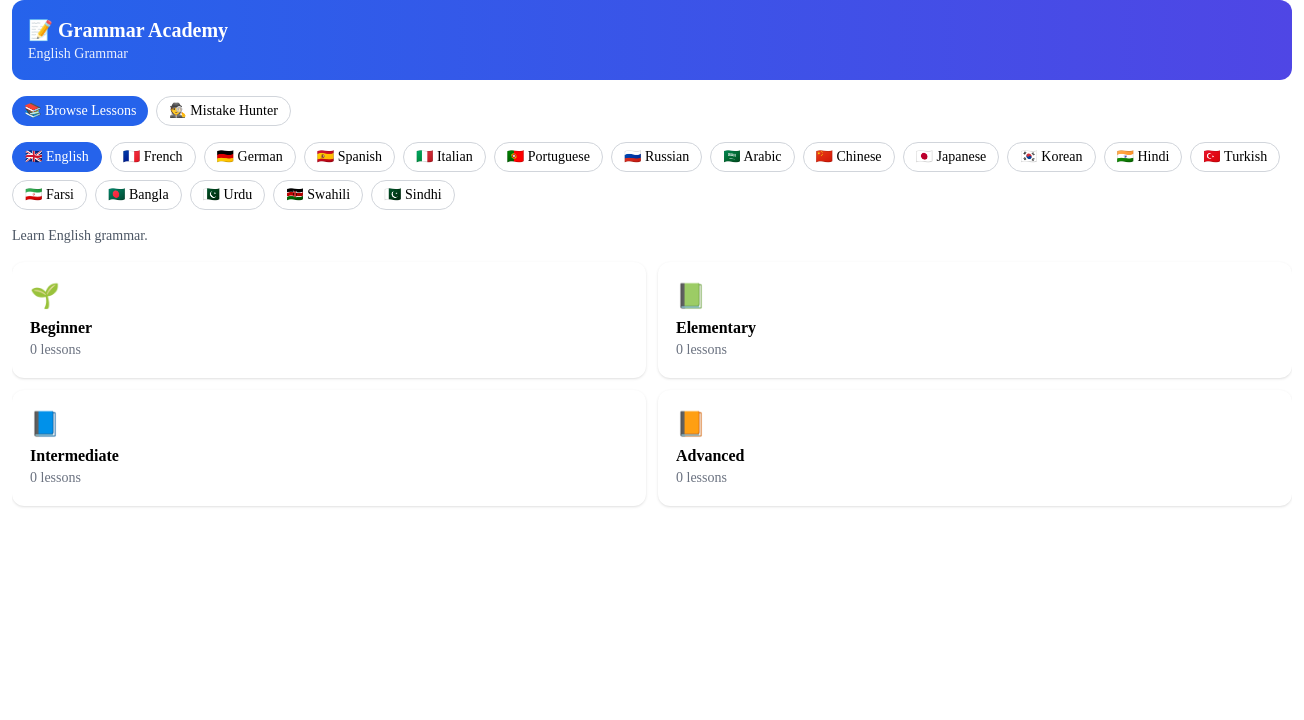
Test: GrammarAcademy Mistake Hunter › generates a mistake-hunting exercise and reveals the answer key
Click the button "🕵️ Mistake Hunter" at coordinates (224, 111), box x1=156 y1=96 x2=291 y2=126
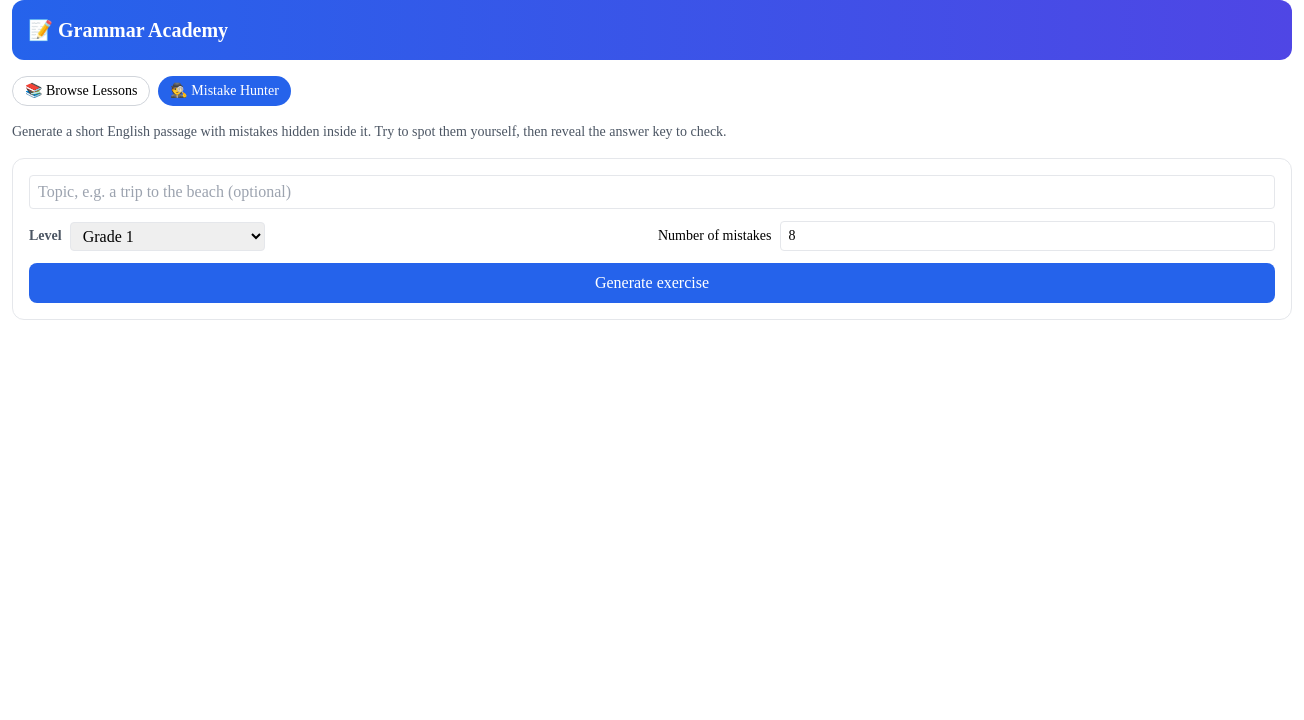
Click the button "Generate exercise" at coordinates (652, 283), box x1=29 y1=263 x2=1275 y2=303
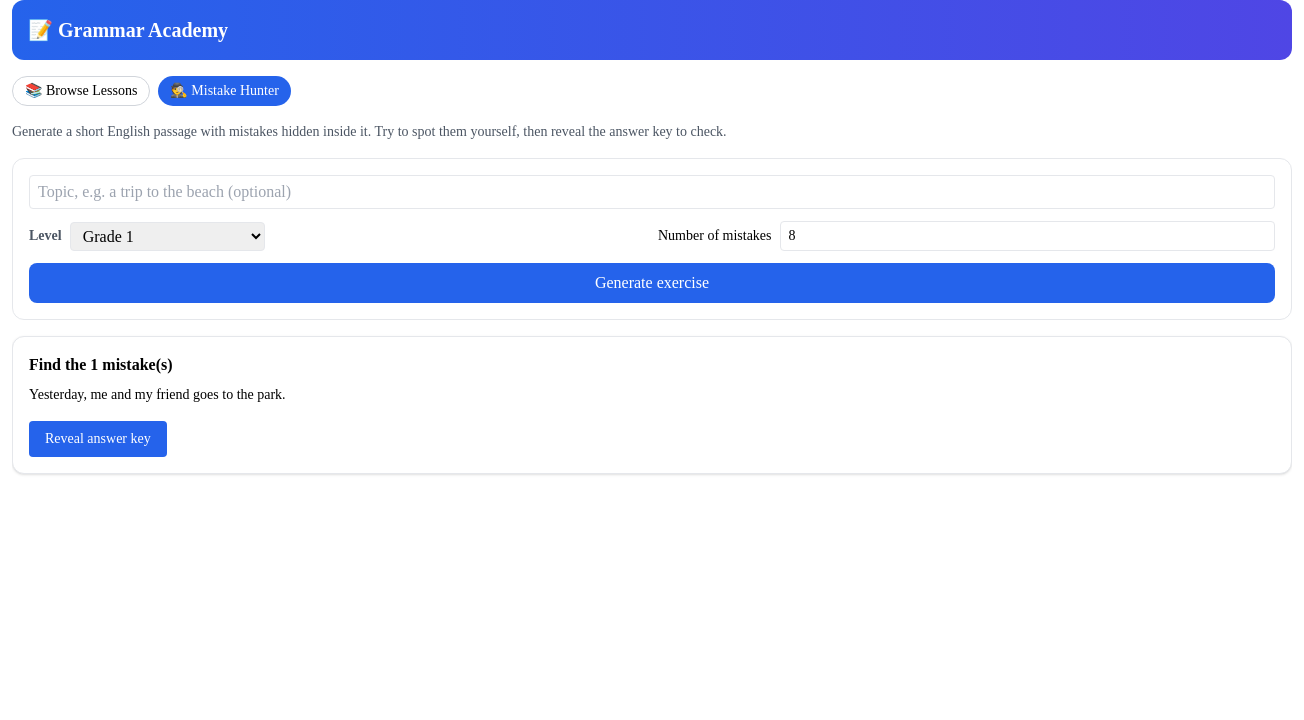
Expected: the text "my friend and I went" is not shown
Expected: the text "Yesterday, me and my friend goes to the park." is shown, x1=29 y1=387 x2=286 y2=402
Click the button "Reveal answer key" at coordinates (98, 439), box x1=29 y1=421 x2=167 y2=457
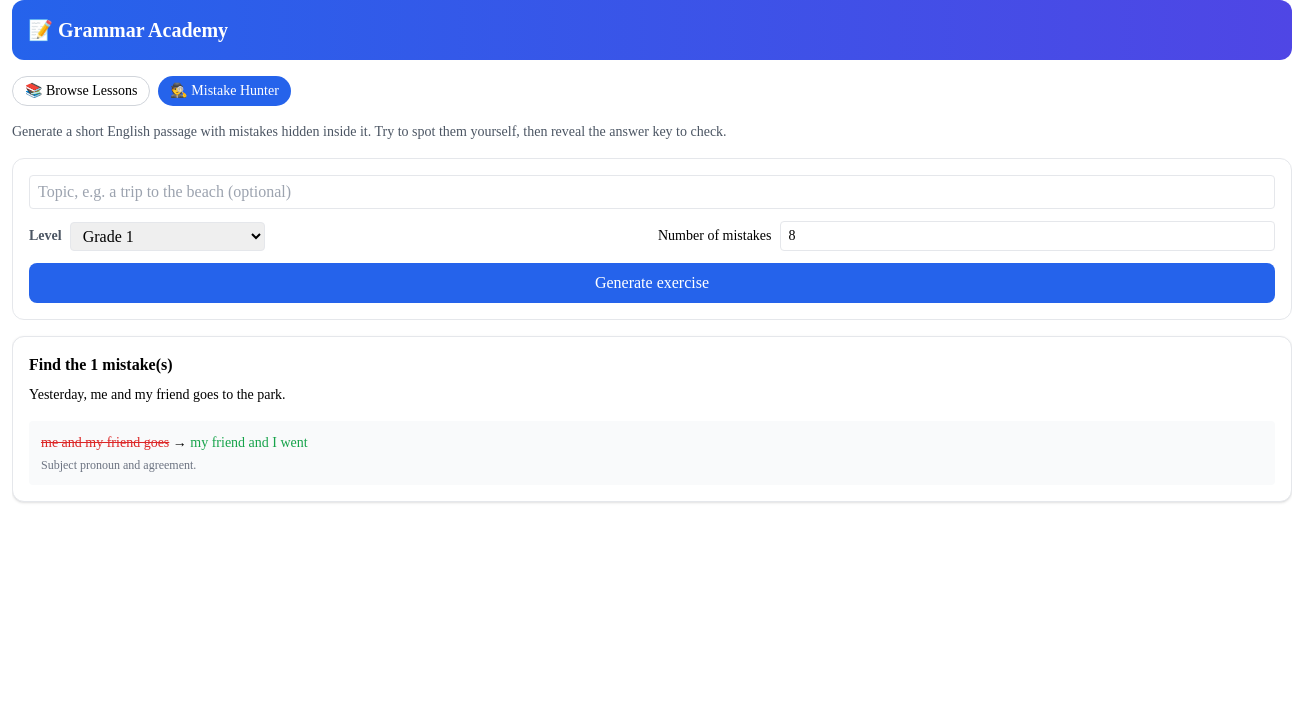
Expected: the text "my friend and I went" is shown, x1=190 y1=435 x2=308 y2=450
Expected: the text "Subject pronoun and agreement." is shown, x1=41 y1=458 x2=196 y2=472
